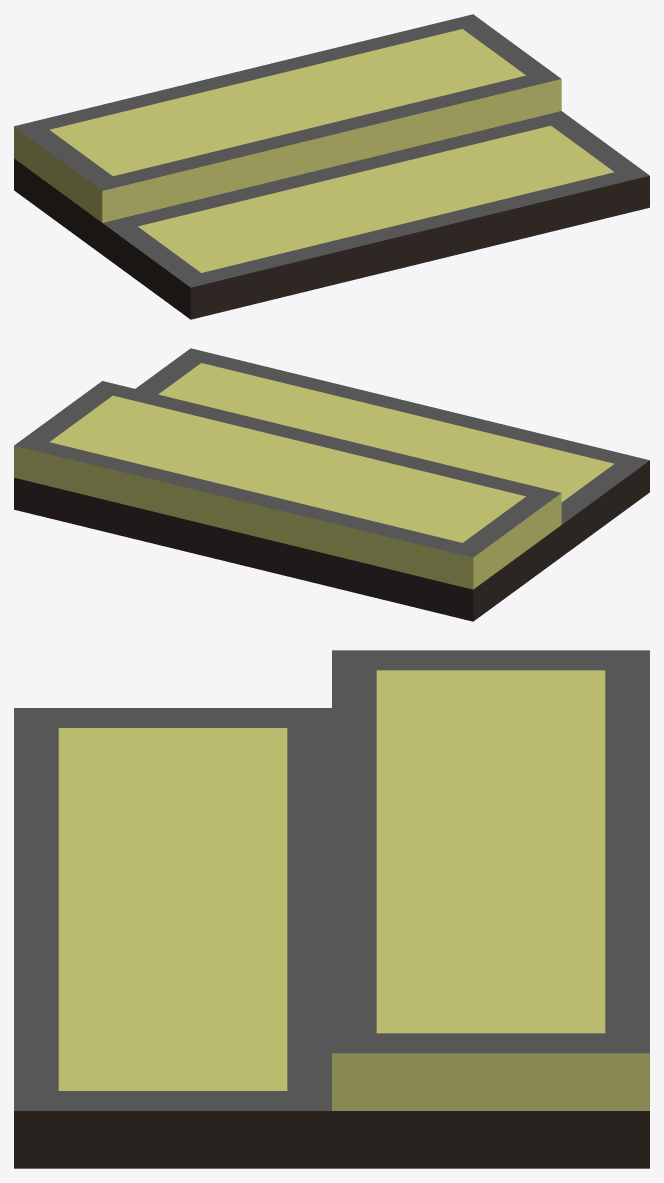
File: Stairs.fbx
3 renders of one model, top to bottom at view 1: azimuth 30°, elevation 25°; view 2: azimuth 150°, elevation 25°; view 3: azimuth 270°, elevation 25°, orthographic. The views are drawn at different scales.
Parts seen in each view (by area): view 1: Stairs; view 2: Stairs; view 3: Stairs.
Boxes of the visible parts, bbox=[...] form: Stairs: bbox=[14, 14, 649, 319]; Stairs: bbox=[14, 348, 649, 621]; Stairs: bbox=[14, 650, 649, 1168].
Bounding box in the file's own units: 3000 × 400 × 2000.
